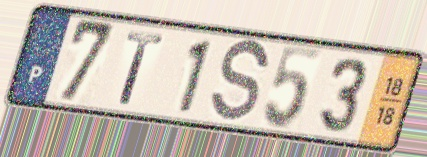1: (177, 38, 218, 114)
3: (315, 56, 372, 135)
5: (261, 42, 328, 133)
7: (57, 14, 118, 106)
S: (207, 37, 272, 127)
T: (115, 29, 167, 108)
